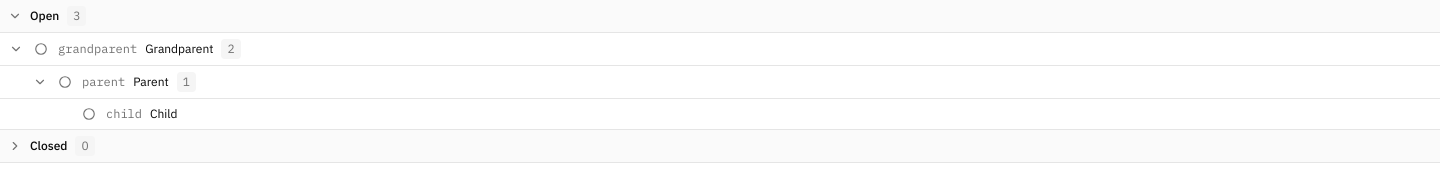
Test: TaskList › deeply nested hierarchies (grandchildren) › collapsing middle parent hides only its descendants
Collapse the parent (second button)
Click the 2nd button named "Collapse subtasks" at (40, 82), box [31,73,49,91]
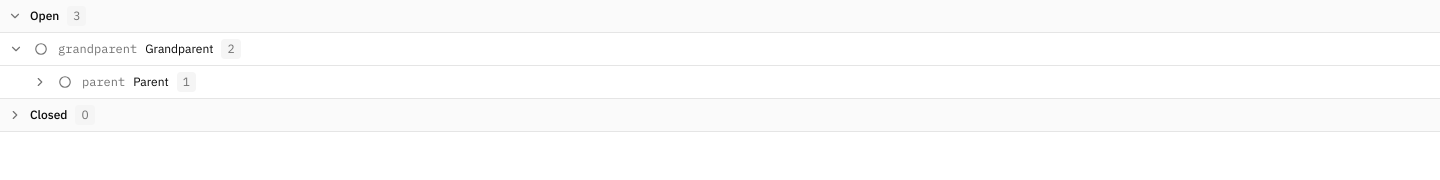
Expected: the text "Grandparent" is shown, [145,41,213,57]
Now the button "child" is gone
